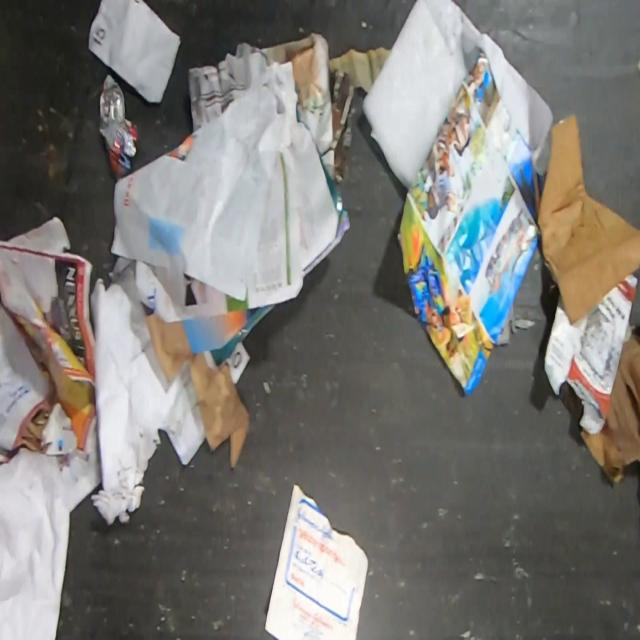cardboard: (535, 113, 640, 324), (543, 271, 639, 434), (580, 322, 640, 486)
metal: (98, 71, 138, 182)
